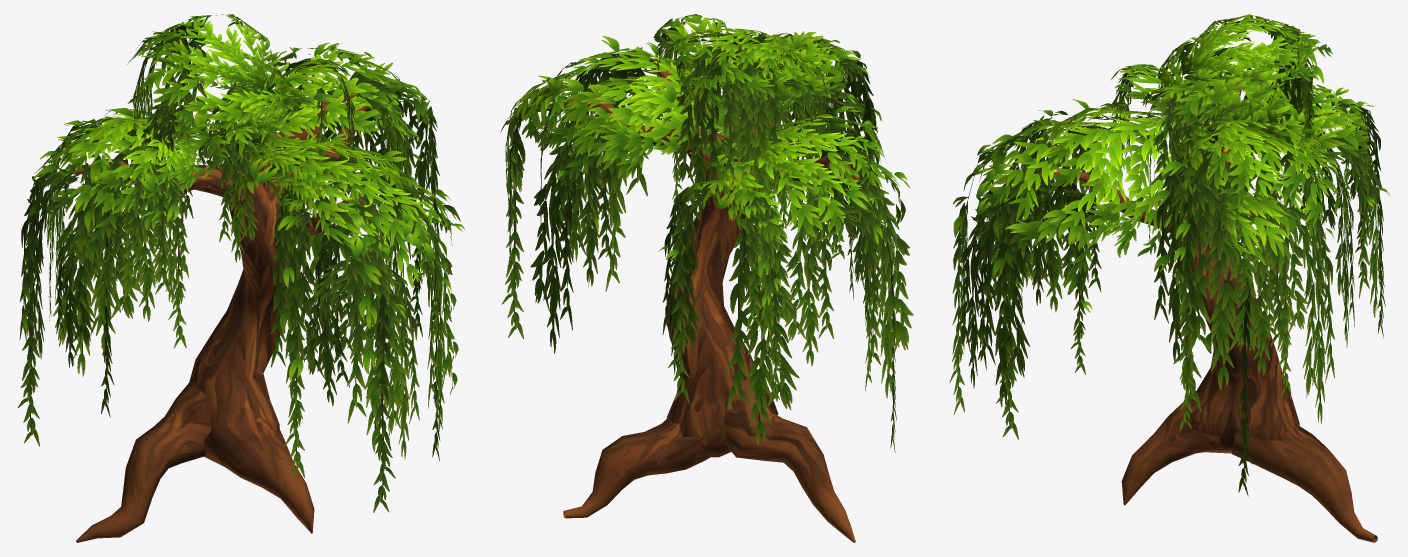
File: SE_Willow_b.fbx
3 renders of one model, left to right at view 1: azimuth 30°, elevation 25°; view 2: azimuth 150°, elevation 25°; view 3: azimuth 270°, elevation 25°, orthographic.
Parts seen in each view (by area): view 1: SE_Willow_b; view 2: SE_Willow_b; view 3: SE_Willow_b.
Boxes of the visible parts, x1=… form: SE_Willow_b: x1=17, y1=14, x2=464, y2=542; SE_Willow_b: x1=500, y1=14, x2=913, y2=542; SE_Willow_b: x1=949, y1=14, x2=1390, y2=542.
Bounding box in the file's own units: 13.64 × 15.07 × 12.81.
